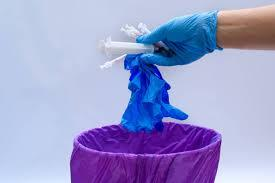Glove: (121, 54, 187, 131), (136, 11, 221, 65)
